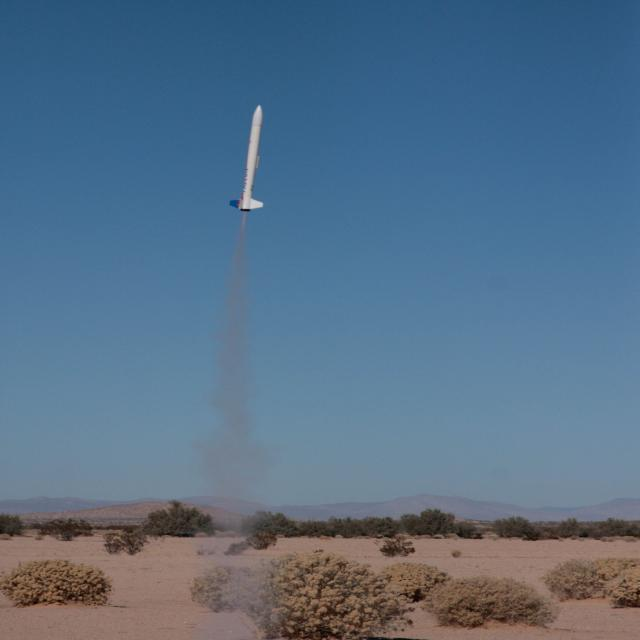Rocket: (229, 104, 265, 212)
